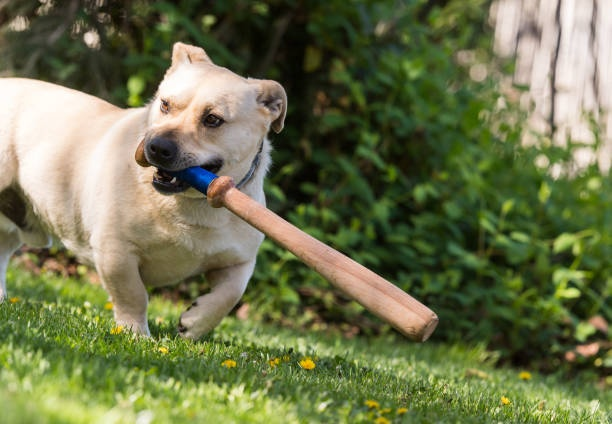bita: (194, 167, 437, 341)
